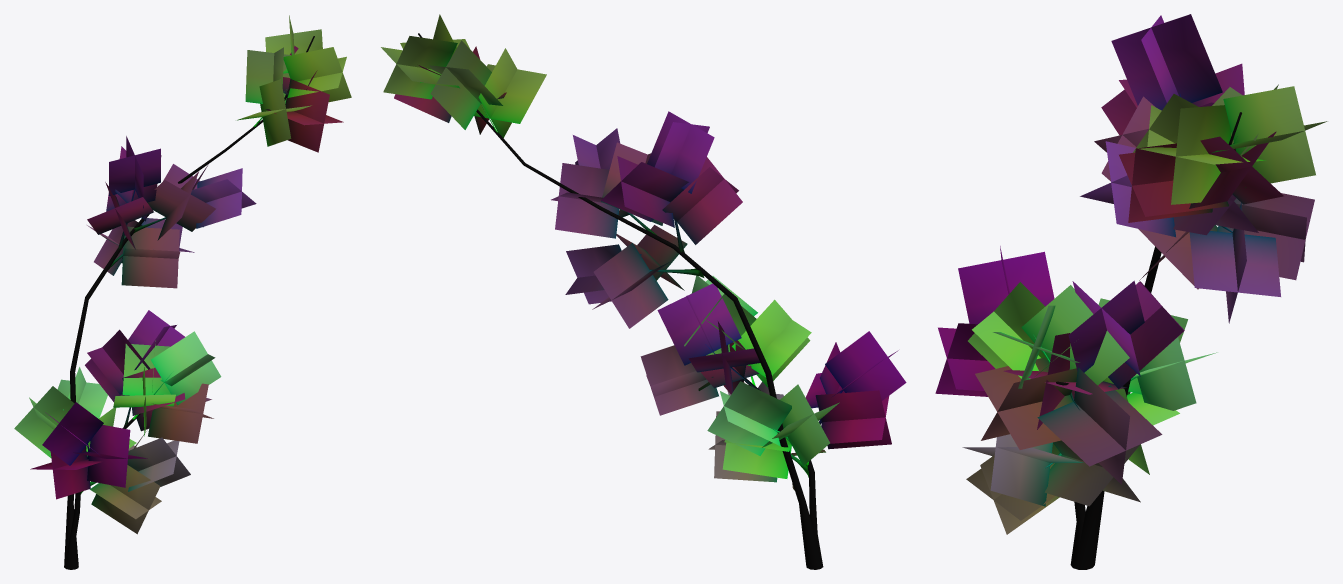
The model's file is URP_P5_Tree_10_LOD_2.fbx.
The picture shows the model from 3 angles, left to right: view 1: azimuth 30°, elevation 25°; view 2: azimuth 150°, elevation 25°; view 3: azimuth 270°, elevation 25°; orthographic projection. The views are drawn at different scales.
Visible parts, largest first — view 1: Tree_10_LOD_2; view 2: Tree_10_LOD_2; view 3: Tree_10_LOD_2.
Boxes of the visible parts, x1=… form: Tree_10_LOD_2: x1=14, y1=15, x2=351, y2=569; Tree_10_LOD_2: x1=381, y1=14, x2=906, y2=569; Tree_10_LOD_2: x1=935, y1=14, x2=1327, y2=569.
Size of the model in its own units: 616 by 693 by 352.
